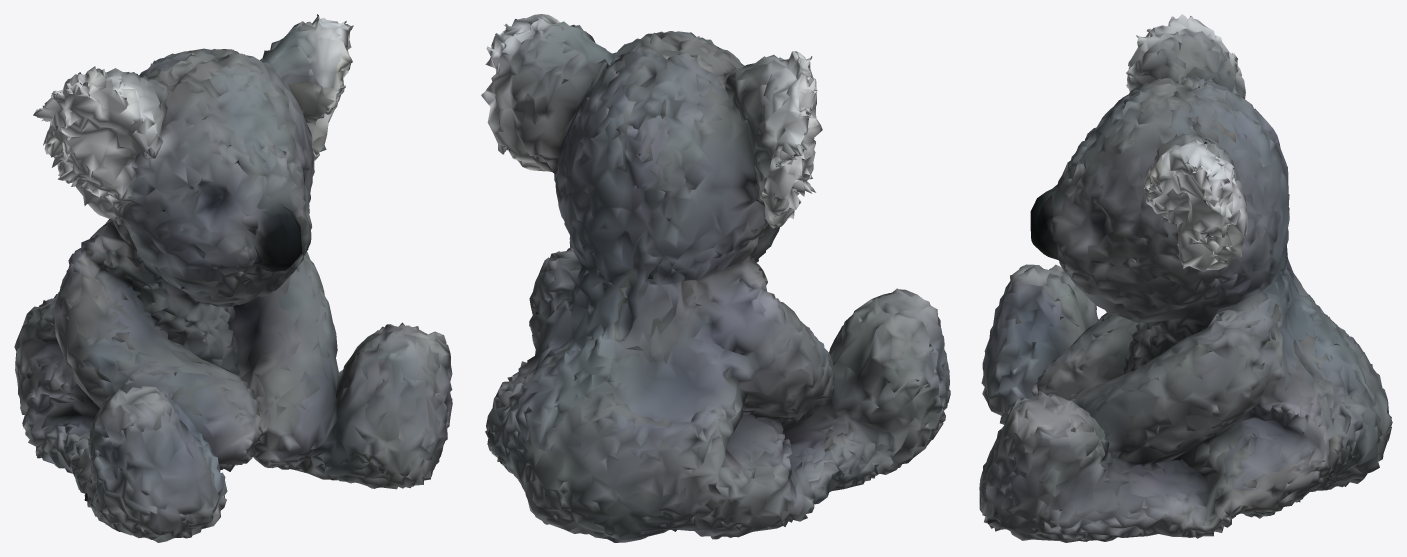
Rendered from Ortho_Forward_Facing_QCaor9ImJ2G-medium.glb.
3 renders of one model, left to right at view 1: azimuth 30°, elevation 25°; view 2: azimuth 150°, elevation 25°; view 3: azimuth 270°, elevation 25°, orthographic. The views are drawn at different scales.
Visible parts, largest first — view 1: Ortho_Forward_Facing_QCaor9ImJ2G; view 2: Ortho_Forward_Facing_QCaor9ImJ2G; view 3: Ortho_Forward_Facing_QCaor9ImJ2G.
Part boxes in pixels (x1,y1,x2,y2): Ortho_Forward_Facing_QCaor9ImJ2G: (14,14,452,542); Ortho_Forward_Facing_QCaor9ImJ2G: (481,14,950,542); Ortho_Forward_Facing_QCaor9ImJ2G: (979,14,1392,542).
Size of the model in its own units: 0.1733 by 0.1953 by 0.179.
Materials: 1 (1 with a texture image).
